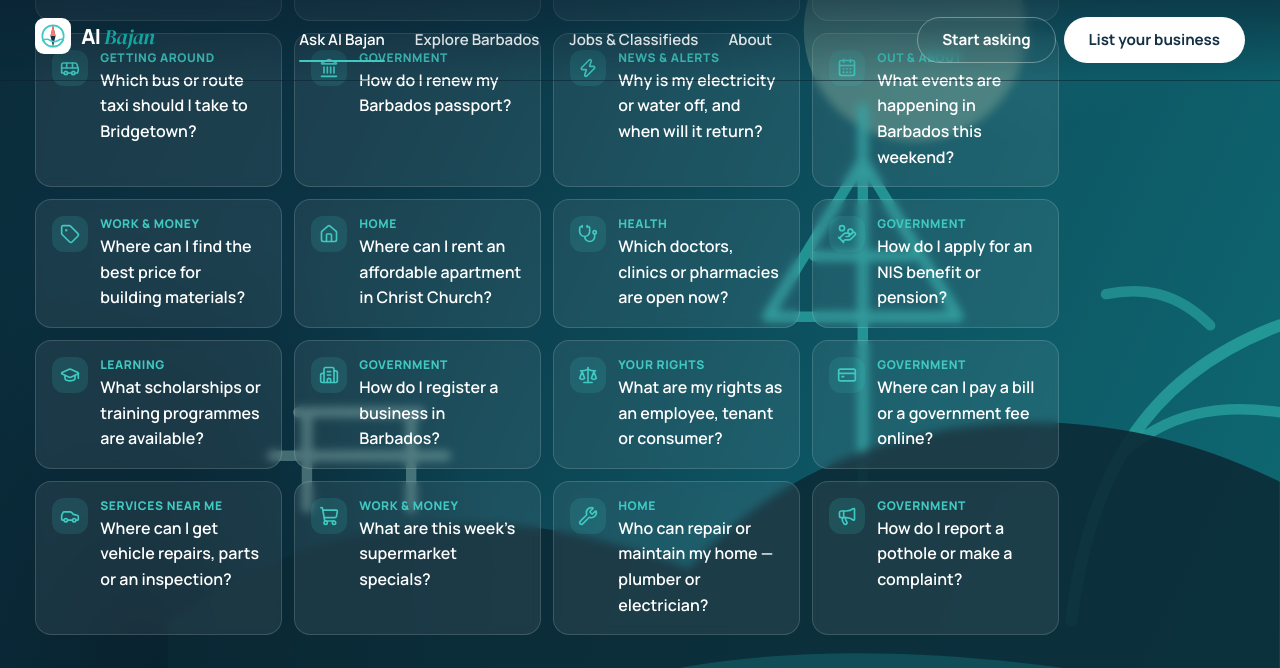
Test: Ask AI Bajan page › suggested topics start a conversation
(page scrolled)
Step 1. Click the button "Government How do I register a business in Barbados?" → (418, 404), box [294, 340, 541, 469]
(page scrolled)
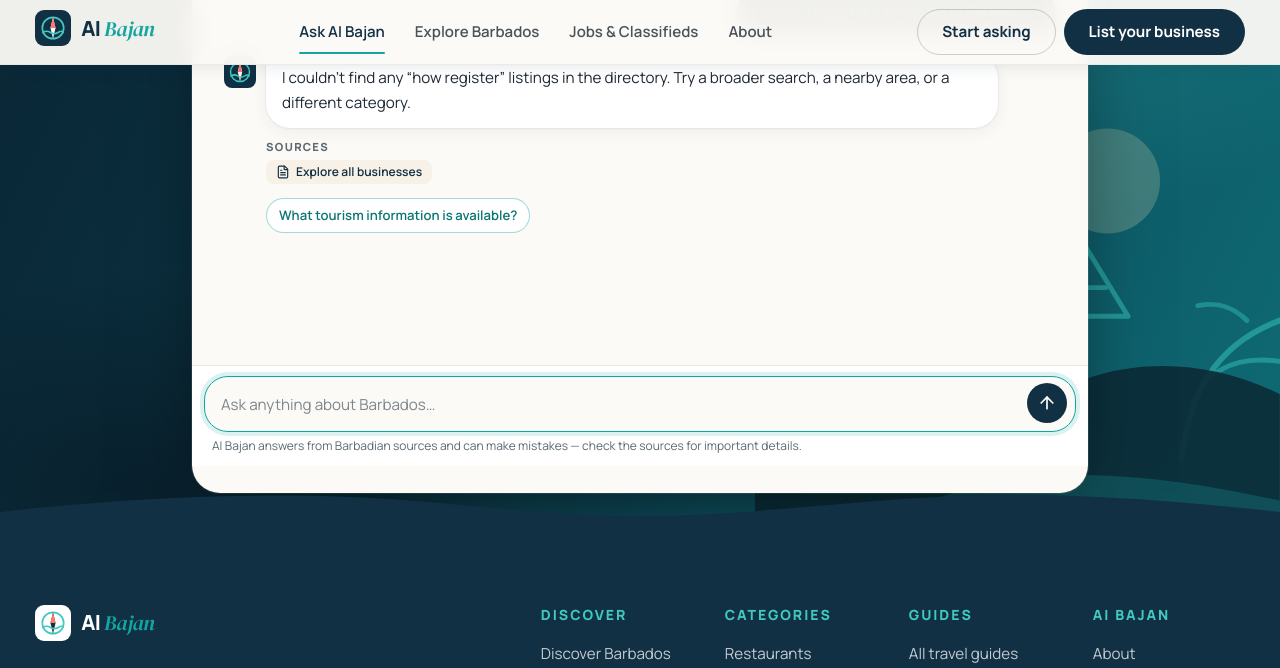
Check: the text box named "ask ai bajan a question" is shown, box [213, 385, 1019, 425]
